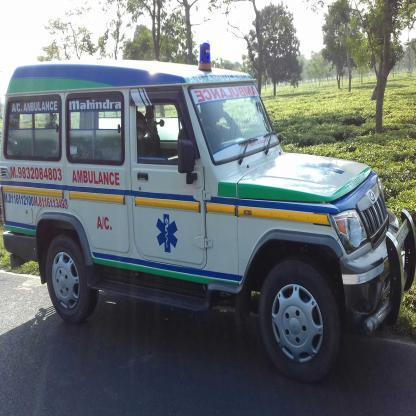Ambulance: (141, 210, 188, 258), (67, 166, 124, 188)
